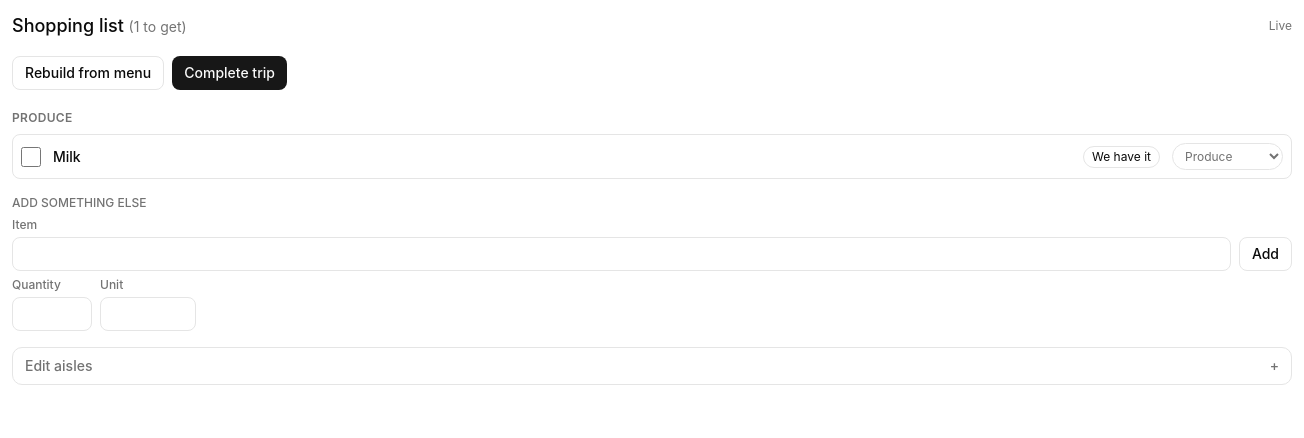
it: GroceryList — aisles › rolls the row back to its old aisle when the write fails
Select "Dairy & Eggs" in the dropdown named "Aisle for Milk" at point(1228, 156), box [1172,143,1283,170]
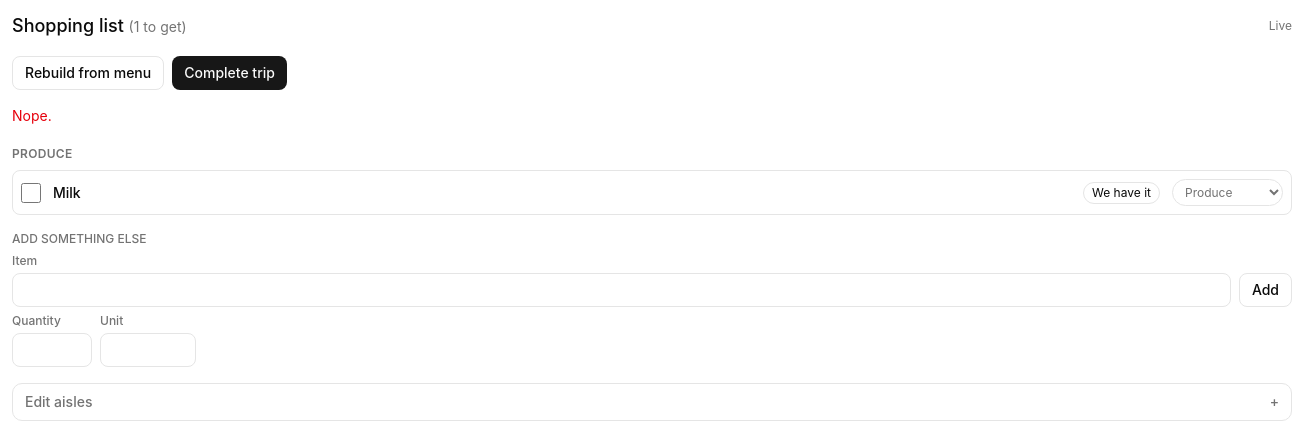
Expected: the dropdown named "Aisle for Milk" shows "Produce", [1172,179,1283,206]
Expected: the message reads "Nope.", [12,107,52,124]
